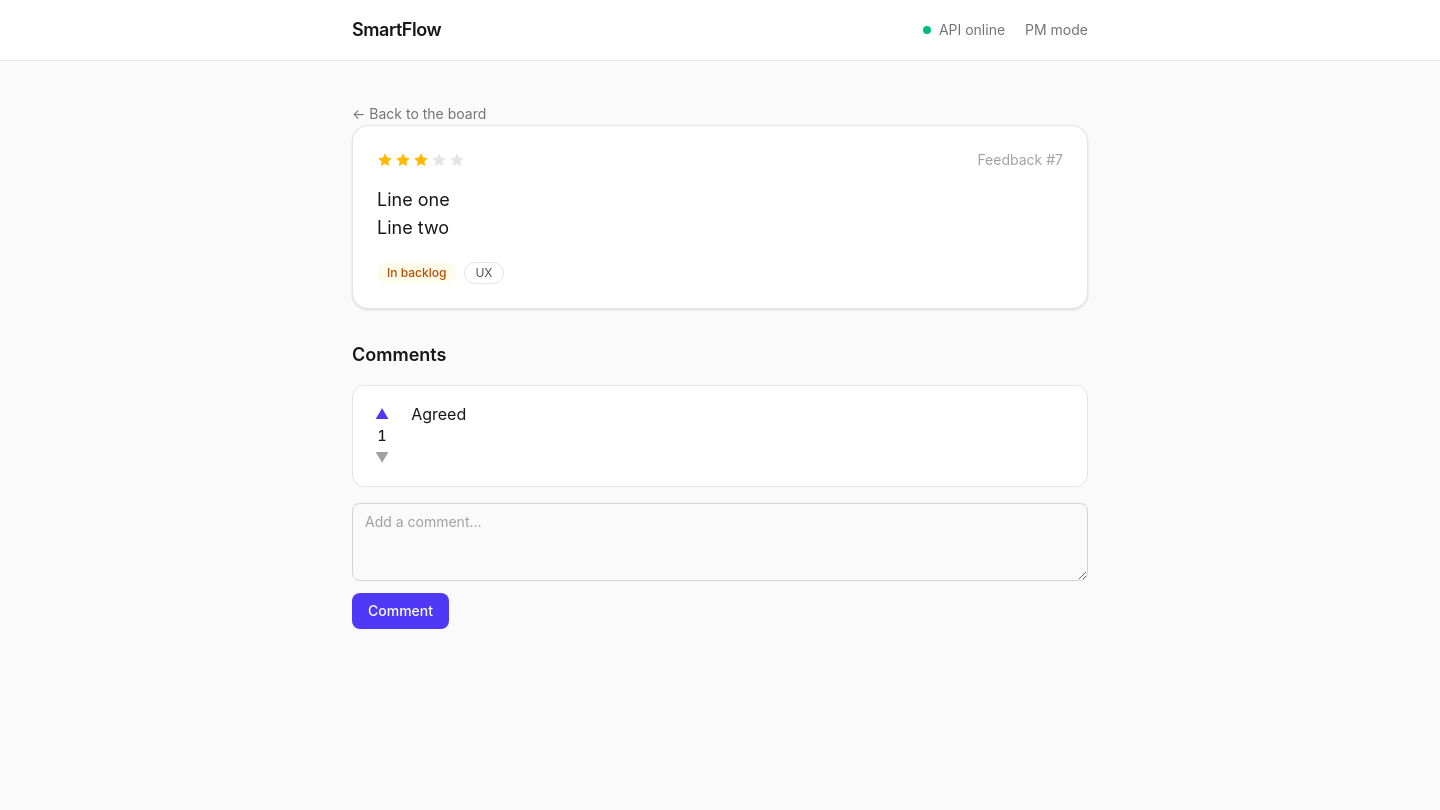
Test case: Change your vote (spec 012) › AC-6: on an API error, shows its message and keeps the vote
This screenshot has width=1440, height=810.
Click the button named "Downvote": (382, 458) [369,446,395,470]
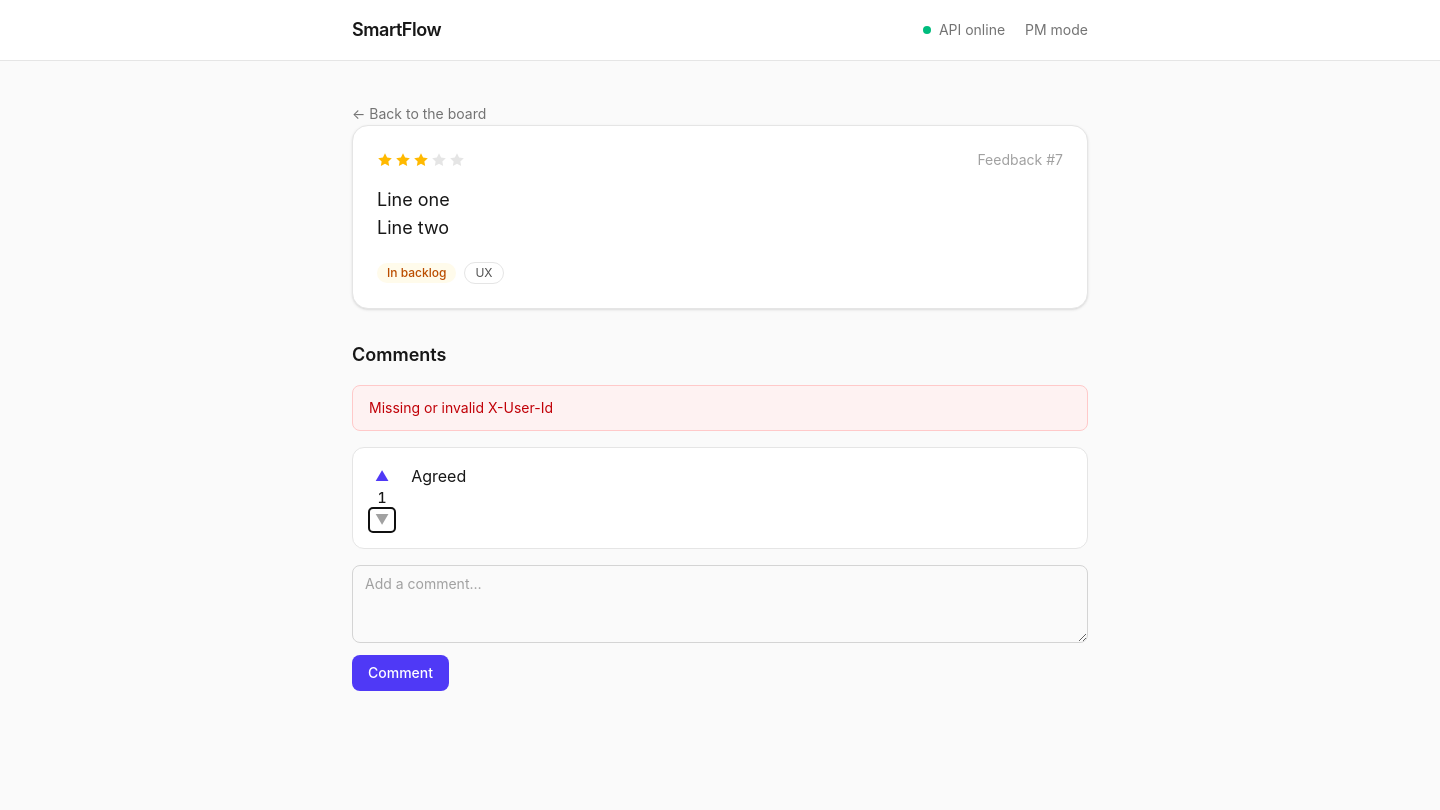
Now the text "Missing or invalid X-User-Id" is shown, box [352,385,1088,431]
